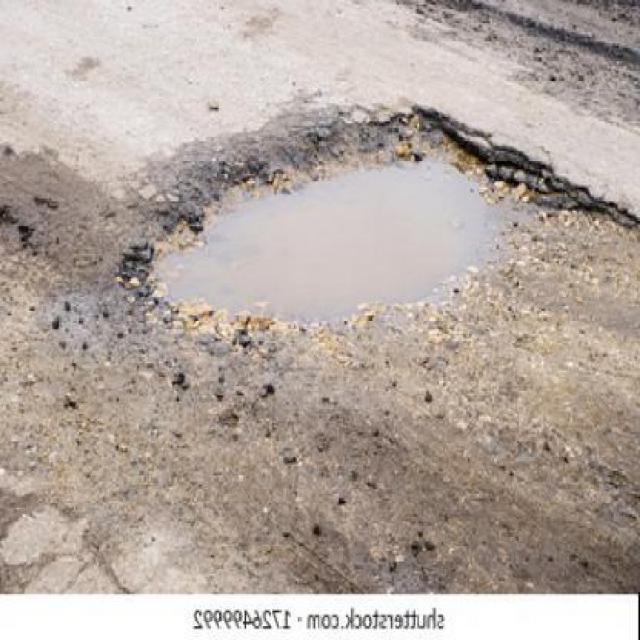pothole: (141, 103, 530, 332)
